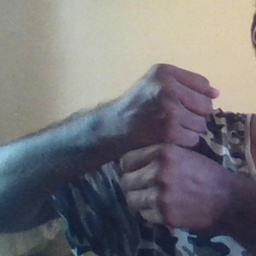G: (117, 61, 225, 231)
